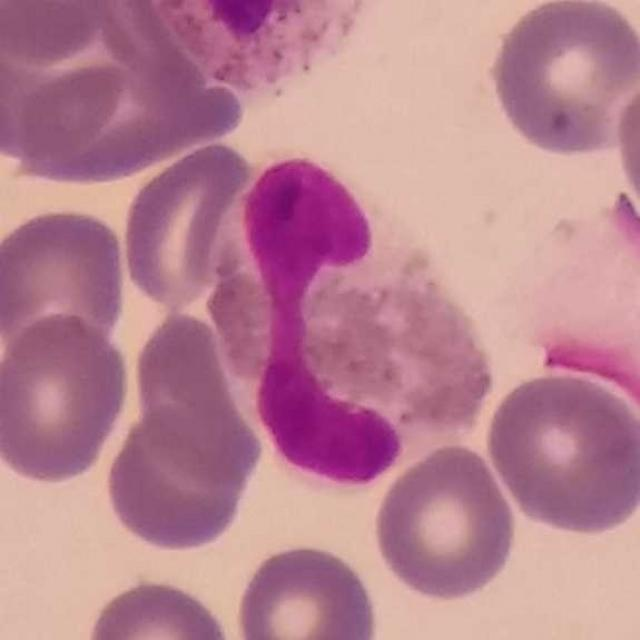Eosinophil: (201, 153, 491, 481), (148, 0, 383, 94)
RBC: (3, 46, 237, 189), (481, 367, 640, 538), (484, 0, 640, 161), (99, 401, 262, 554), (371, 440, 521, 606), (127, 306, 261, 490), (118, 138, 256, 312), (0, 310, 134, 488), (0, 3, 137, 172), (0, 202, 131, 358), (231, 538, 382, 640), (80, 574, 237, 640), (0, 0, 122, 65), (611, 66, 640, 236)
